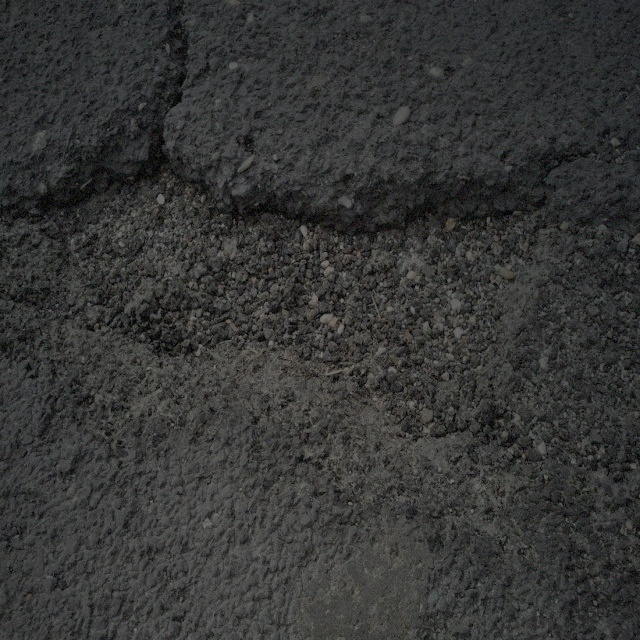pothole: (24, 98, 543, 479)
